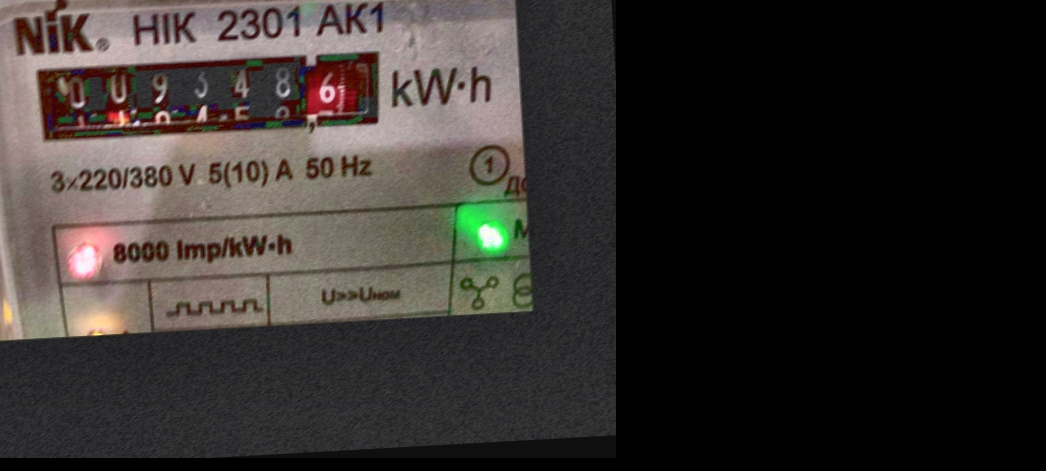0: (106, 70, 129, 107), (65, 74, 87, 110)
3: (188, 66, 212, 99)
4: (228, 64, 251, 102)
6: (315, 69, 339, 104)
8: (271, 64, 293, 99)
9: (149, 68, 169, 103)
screen: (12, 35, 402, 158)
